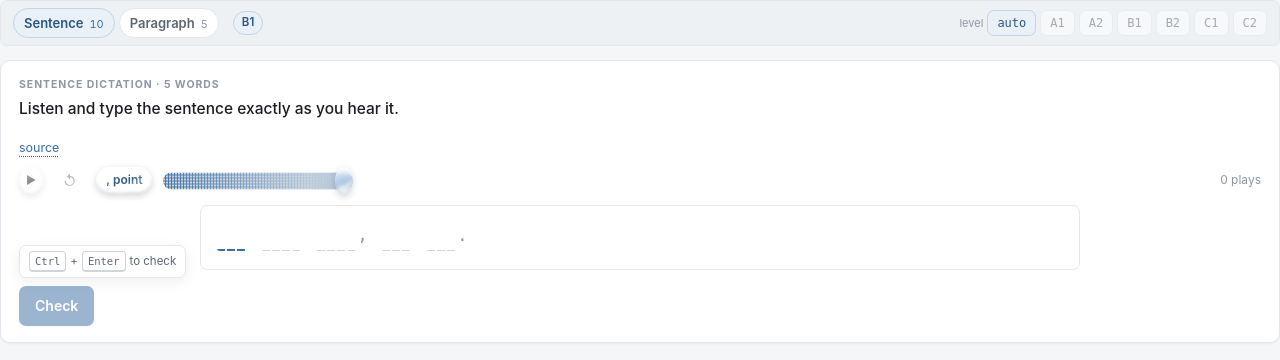
DictationPage word fields › spreads a pasted sentence across the fields instead of stripping its spaces
The width and height of the screenshot is (1280, 360).
In the 1st field with class "dict-word": point(232, 238) 217,224 -> 248,252, type "Les cinq mots ici"
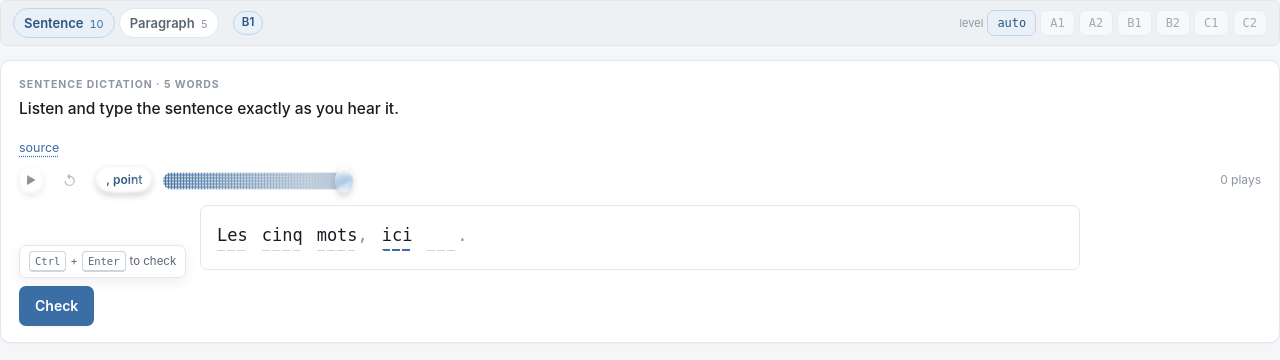
expect the field with class "dict-word" holds "ici": met, box 382,224 -> 412,252
